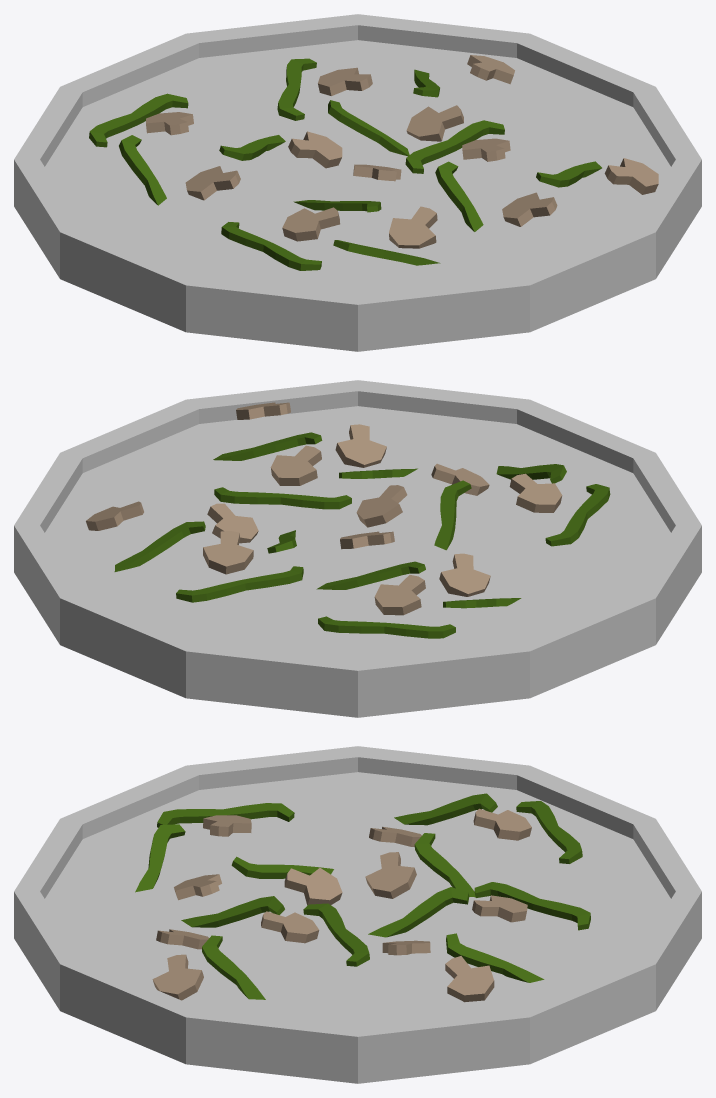
The model's file is CookedVeg.fbx.
The picture shows the model from 3 angles, top to bottom: view 1: azimuth 30°, elevation 25°; view 2: azimuth 150°, elevation 25°; view 3: azimuth 270°, elevation 25°; orthographic projection.
Parts seen in each view (by area): view 1: PizzaBase, VeggiesCut.004; view 2: PizzaBase, VeggiesCut.004; view 3: PizzaBase, VeggiesCut.004.
Part boxes in pixels (x1=…): PizzaBase: x1=14, y1=14, x2=701, y2=351; VeggiesCut.004: x1=89, y1=55, x2=658, y2=270; PizzaBase: x1=14, y1=380, x2=701, y2=717; VeggiesCut.004: x1=86, y1=402, x2=610, y2=638; PizzaBase: x1=14, y1=746, x2=701, y2=1083; VeggiesCut.004: x1=135, y1=793, x2=590, y2=1002.
Size of the model in its own units: 200 by 21.9 by 200.
